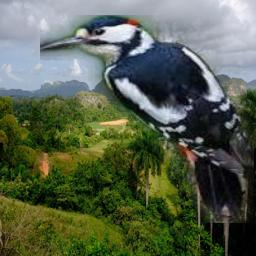Woodpecker: (40, 15, 254, 223)
